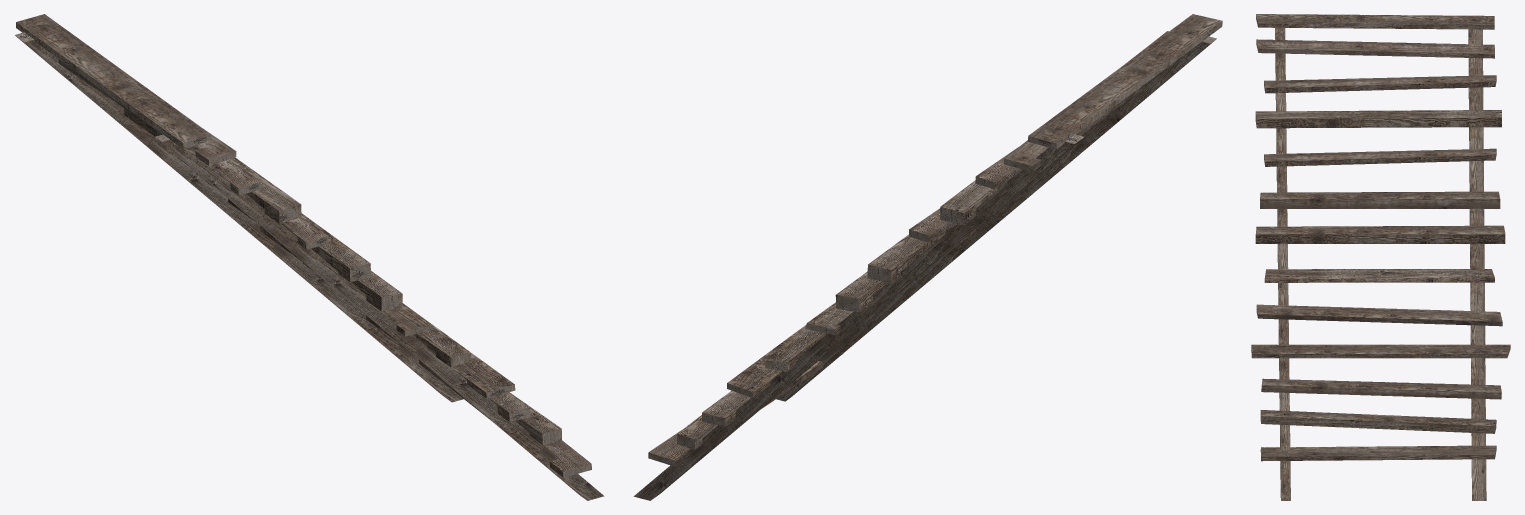
The model's file is d_sg_shouyou_louti01_qt.FBX.
The picture shows the model from 3 angles, left to right: view 1: azimuth 30°, elevation 25°; view 2: azimuth 150°, elevation 25°; view 3: azimuth 270°, elevation 25°; orthographic projection. The views are drawn at different scales.
Visible parts, largest first — view 1: d_sg_shouyou_louti01_qt; view 2: d_sg_shouyou_louti01_qt; view 3: d_sg_shouyou_louti01_qt.
Part boxes in pixels (bbox=[...]): d_sg_shouyou_louti01_qt: bbox=[15, 14, 604, 500]; d_sg_shouyou_louti01_qt: bbox=[633, 14, 1222, 500]; d_sg_shouyou_louti01_qt: bbox=[1251, 14, 1510, 500].
Size of the model in its own units: 5.79 by 5.85 by 4.09.
